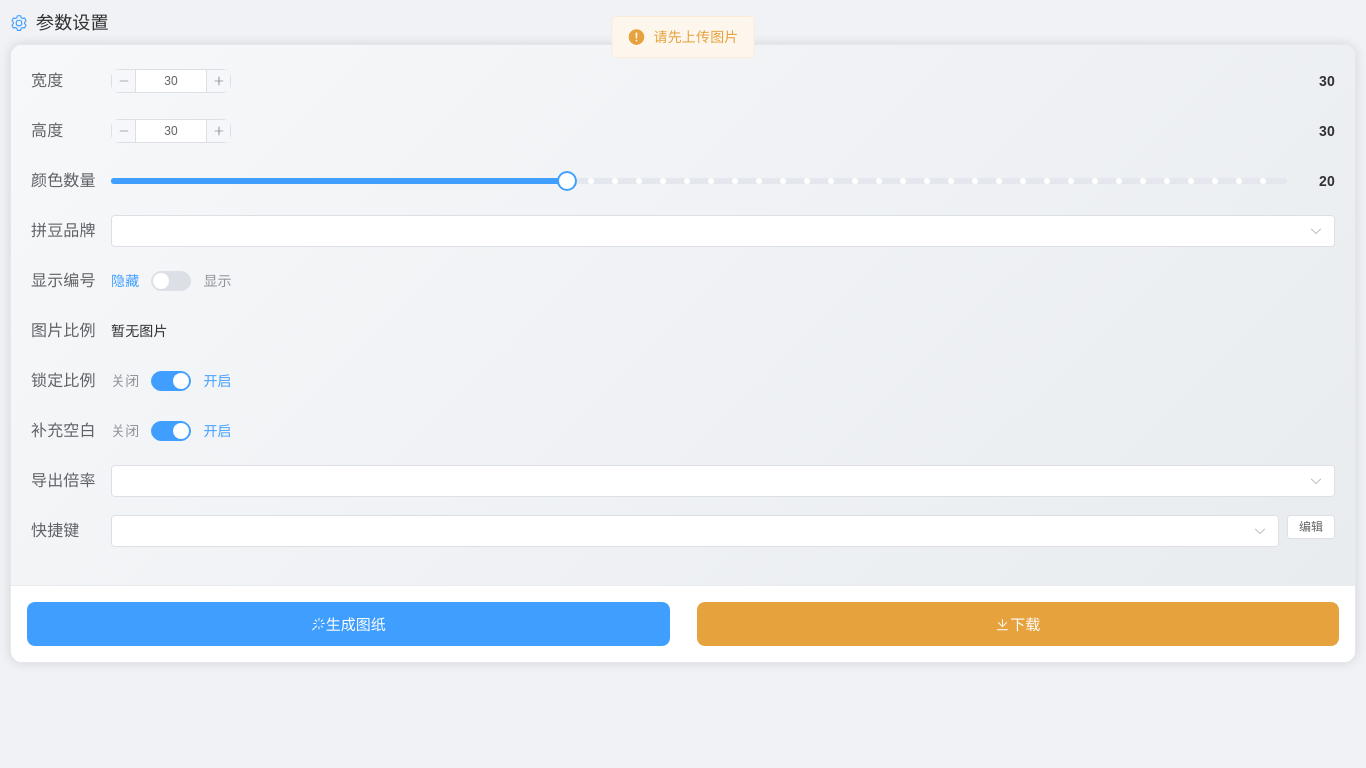
Controls › 快捷键编辑对话框 › 点击编辑按钮打开快捷键对话框
This screenshot has width=1366, height=768.
Click the button "编辑": (1311, 527) [1287, 515, 1335, 539]
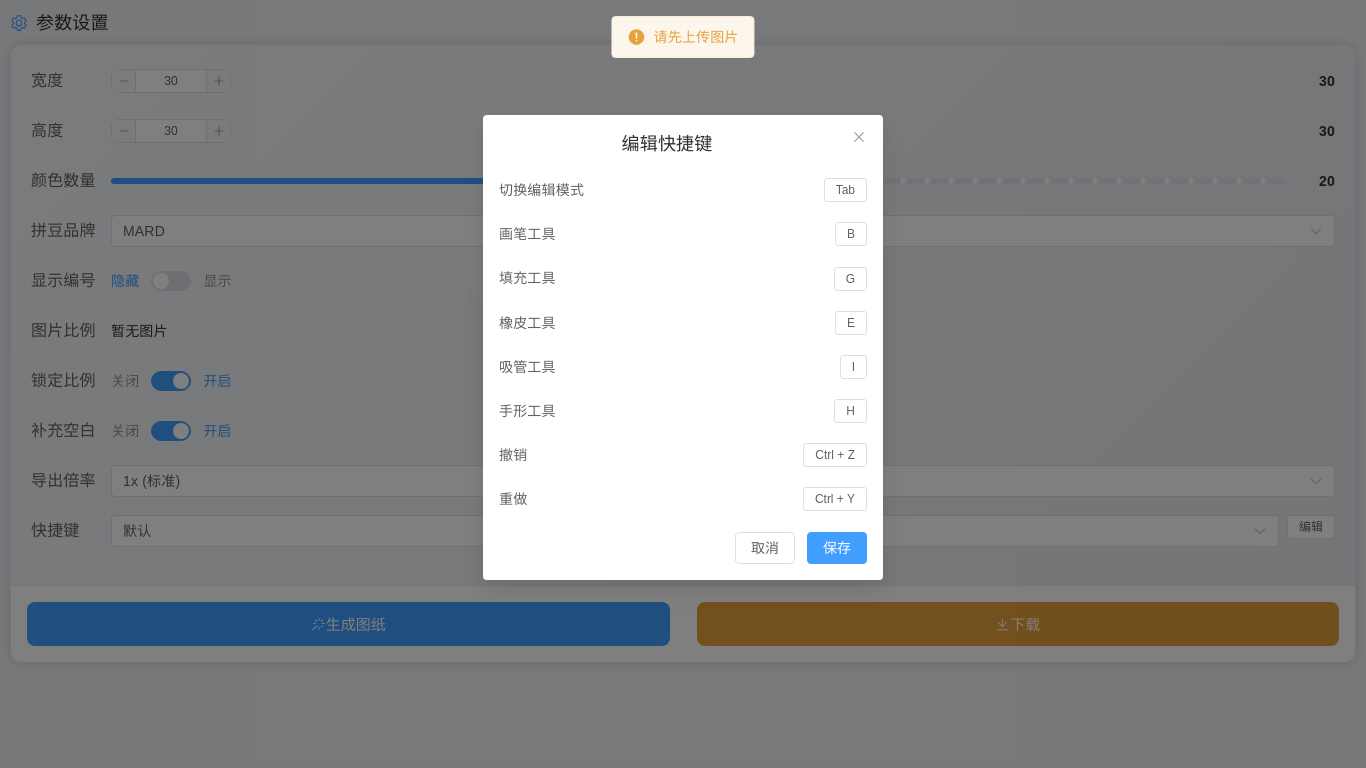
Now the element that starts with "编辑快捷键" is shown, box [483, 115, 883, 580]
